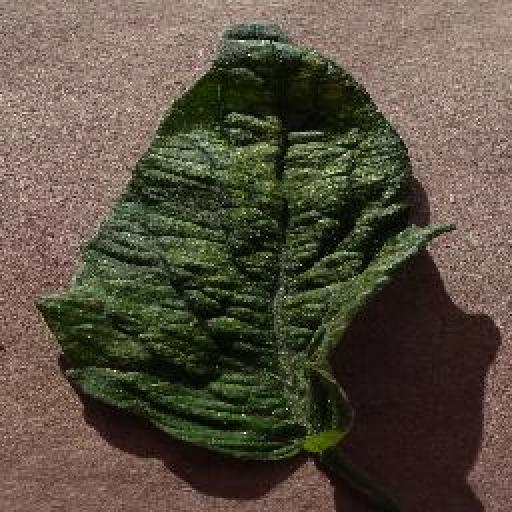disease_tomato: (38, 23, 458, 457)
